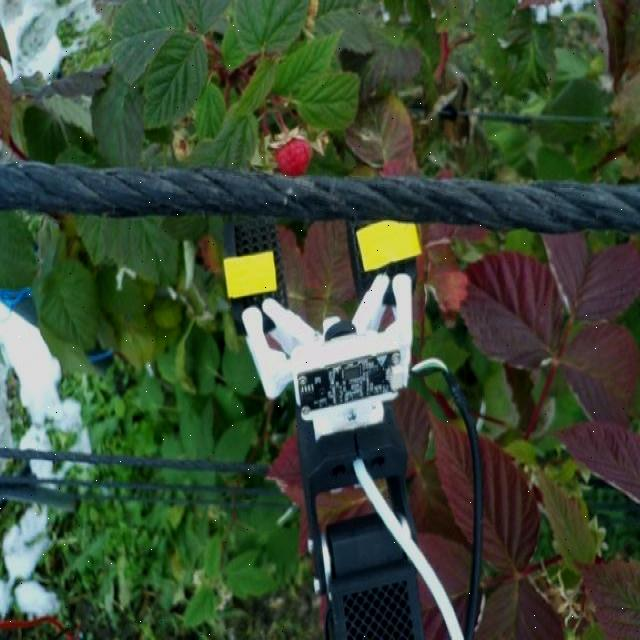Riped berries: (272, 133, 312, 176)
